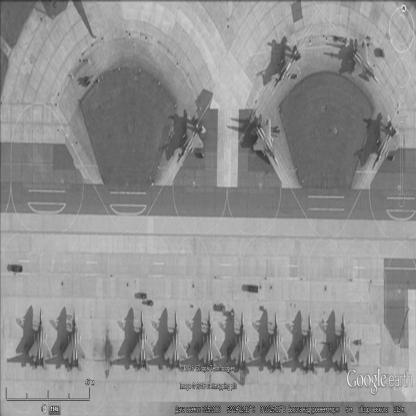F15: (373, 115, 400, 173), (230, 312, 255, 374), (298, 314, 323, 376), (251, 115, 280, 168), (29, 308, 53, 372), (132, 311, 156, 374), (349, 39, 381, 86), (165, 311, 189, 373), (178, 113, 207, 164), (198, 311, 223, 370), (333, 313, 356, 377), (266, 314, 290, 375), (64, 310, 87, 373), (275, 42, 304, 89)
